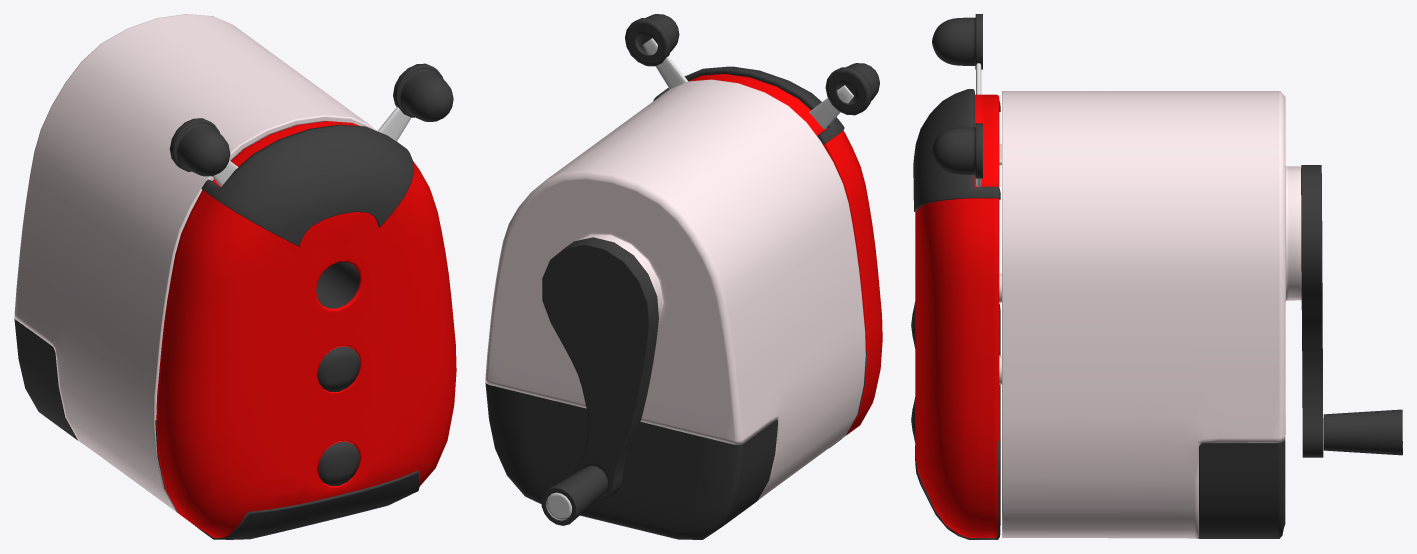
The model's file is pencil_sharpener.fbx.
The picture shows the model from 3 angles, left to right: view 1: azimuth 30°, elevation 25°; view 2: azimuth 150°, elevation 25°; view 3: azimuth 270°, elevation 25°; orthographic projection. The views are drawn at different scales.
Parts seen in each view (by area): view 1: Sharpener_FrontCover, Sharpener_Body, Sharpener_FrontCover.Black, Sharpener_CoverLever, Sharpener_Drawer; view 2: Sharpener_Body, Sharpener_Drawer, Sharpener_Rotator, Sharpener_FrontCover, Sharpener_CoverLever, Sharpener_RotateHolder, Sharpener_FrontCover.Black; view 3: Sharpener_Body, Sharpener_FrontCover, Sharpener_Drawer, Sharpener_Rotator, Sharpener_FrontCover.Black, Sharpener_CoverLever, Sharpener_RotateHolder.
Part boxes in pixels (x1=…): Sharpener_FrontCover: x1=156, y1=121, x2=456, y2=537; Sharpener_Body: x1=14, y1=14, x2=377, y2=513; Sharpener_FrontCover.Black: x1=155, y1=124, x2=420, y2=539; Sharpener_CoverLever: x1=169, y1=63, x2=453, y2=186; Sharpener_Drawer: x1=14, y1=318, x2=78, y2=440; Sharpener_Body: x1=485, y1=79, x2=865, y2=500; Sharpener_Drawer: x1=485, y1=382, x2=777, y2=539; Sharpener_Rotator: x1=542, y1=237, x2=658, y2=501; Sharpener_FrontCover: x1=688, y1=74, x2=882, y2=435; Sharpener_CoverLever: x1=625, y1=14, x2=879, y2=129; Sharpener_RotateHolder: x1=541, y1=465, x2=608, y2=525; Sharpener_FrontCover.Black: x1=653, y1=66, x2=868, y2=448; Sharpener_Body: x1=1002, y1=91, x2=1301, y2=538; Sharpener_FrontCover: x1=911, y1=94, x2=999, y2=538; Sharpener_Drawer: x1=1199, y1=440, x2=1285, y2=538; Sharpener_Rotator: x1=1301, y1=165, x2=1323, y2=457; Sharpener_FrontCover.Black: x1=913, y1=89, x2=1000, y2=539; Sharpener_CoverLever: x1=932, y1=14, x2=982, y2=186; Sharpener_RotateHolder: x1=1323, y1=409, x2=1402, y2=455.
Bounding box in the file's own units: 8.68 × 12.31 × 12.87.
